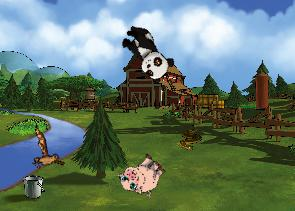eagle: (15, 124, 74, 180)
panda: (114, 20, 178, 85)
pig: (114, 147, 170, 203)
